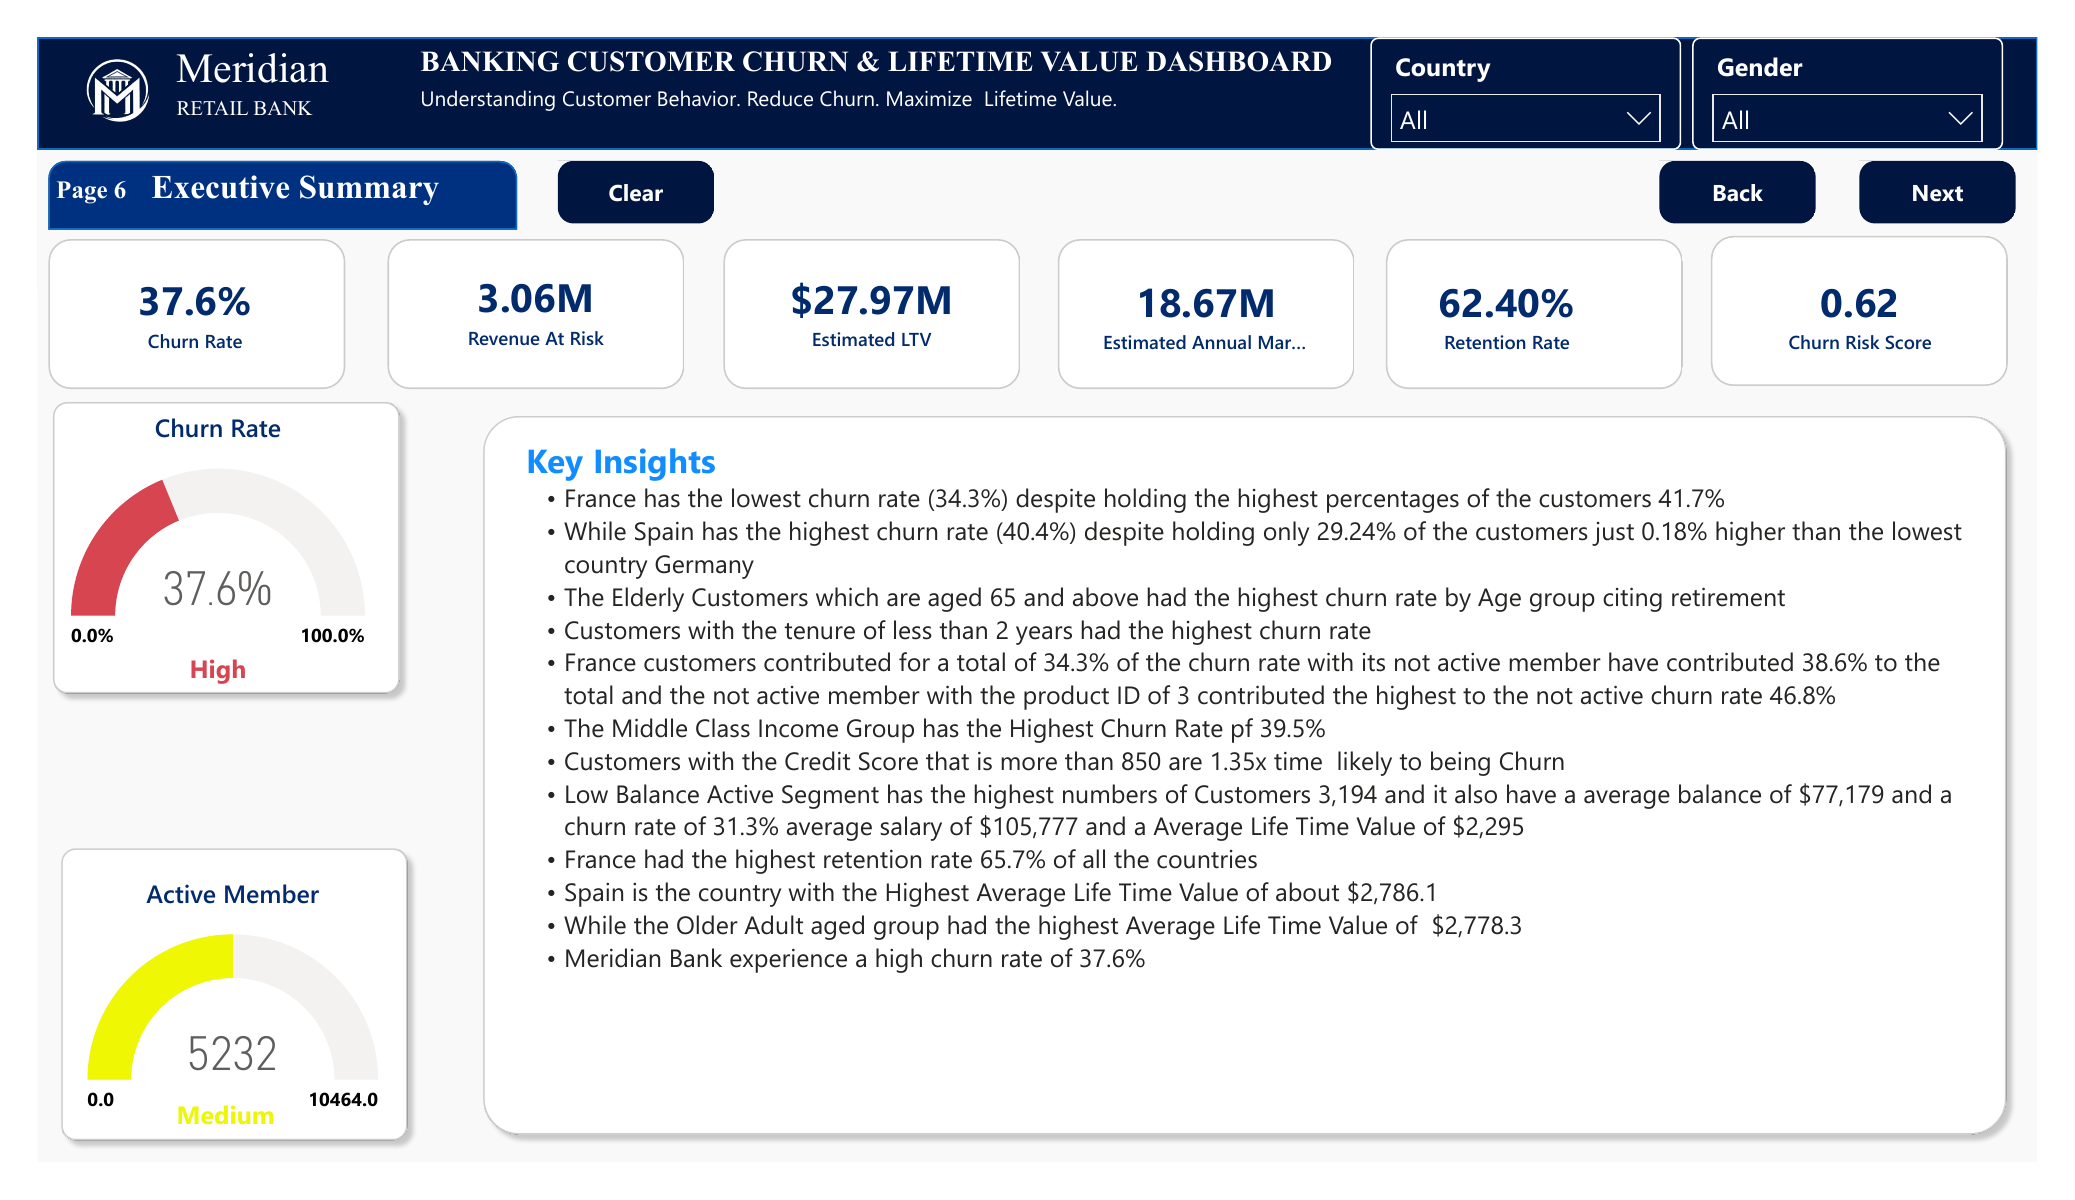

Layout of this report page (visuals, bound fields, positions):
{"tool":"powerbi","page":{"name":"Executive Summary","canvas":[1280,720],"ordinal":5},"visuals":[{"type":"shape","box":[0,0,1279.7,720],"z":0},{"type":"shape","box":[1.8,225.2,238.1,203.3],"z":0,"group":"g1"},{"type":"group","id":"g1","title":"Group 2","box":[1.8,225.2,238.1,203.3],"z":0,"group":"g5"},{"type":"shape","box":[276.5,234.4,990.7,476.1],"z":0,"group":"g7"},{"type":"group","id":"g2","title":"Group 2","box":[7.3,510.8,238.1,203.3],"z":0,"group":"g6"},{"type":"shape","box":[7.3,510.8,238.1,203.3],"z":0,"group":"g2"},{"type":"shape","box":[0,0,1279.7,71.6],"z":1000},{"type":"gauge","fields":{"Y":["All Dax.Churn Rate"]},"box":[7.3,234.4,216.1,166.6],"z":1000,"group":"g5"},{"type":"gauge","fields":{"Y":["All Dax.Active Member"]},"box":[17.7,531.6,216.1,166.6],"z":1000,"group":"g6"},{"type":"shape","box":[7.2,78.8,300,43.9],"z":2000},{"type":"textbox","box":[58.6,388.2,113.5,36.6],"z":2000,"group":"g5"},{"type":"textbox","box":[64.1,673.8,113.5,36.6],"z":2000,"group":"g6"},{"type":"shape","box":[223.9,128.9,189.9,95.8],"z":2001,"group":"g4"},{"type":"shape","box":[7.2,129,189.9,95.8],"z":2001,"group":"g3"},{"type":"cardVisual","fields":{"Data":["All Dax.Churn Rate"]},"box":[7.9,125,186.3,103],"z":2012,"group":"g3"},{"type":"cardVisual","fields":{"Data":["All Dax.Revenue At Risk"]},"box":[226.7,126,184.5,95.8],"z":2012,"group":"g4"},{"type":"cardVisual","fields":{"Data":["All Dax.Churned"]},"box":[482.7,129,170.1,95.8],"z":3000},{"type":"cardVisual","fields":{"Data":["All Dax.Churned"]},"box":[482.7,129,170.1,95.8],"z":4000},{"type":"shape","box":[438.8,129,189.9,95.8],"z":5000},{"type":"shape","box":[652.8,129,189.9,95.8],"z":6000},{"type":"shape","box":[863.3,129,189.9,95.8],"z":7000},{"type":"group","id":"g3","title":"Group 1","box":[7.2,125,189.9,103],"z":8000},{"type":"group","id":"g4","title":"Group 1","box":[223.9,126,189.9,98.8],"z":9000},{"type":"cardVisual","fields":{"Data":["All Dax.Estimated LTV"]},"box":[438.8,127.2,189.9,95.8],"z":10000},{"type":"cardVisual","fields":{"Data":["All Dax.Estimated Annual Margin"]},"box":[652.8,129,189.9,95.8],"z":11000},{"type":"cardVisual","fields":{"Data":["All Dax.Retention Rate"]},"box":[863.3,129,154.3,96.1],"z":12000},{"type":"textbox","box":[7.2,78.8,300,43.9],"z":13000},{"type":"textbox","box":[240,0,613.4,35.8],"z":16000},{"type":"textbox","box":[240,25.1,615.2,35.8],"z":17000},{"type":"image","box":[0,0,102.1,71.6],"z":18000},{"type":"textbox","box":[84.2,0,130.7,71.6],"z":19000},{"type":"actionButton","box":[1166,78.8,100,40],"z":20000},{"type":"actionButton","box":[333.1,78.8,100,40],"z":21000},{"type":"actionButton","box":[1037.9,78.8,100,40],"z":22000},{"type":"group","id":"g5","title":"Group 3","box":[1.8,225.2,238.1,203.3],"z":24000},{"type":"group","id":"g6","title":"Group 3","box":[7.3,510.8,238.1,203.3],"z":25000},{"type":"group","id":"g7","title":"Group 2","box":[276.5,234.4,990.7,476.1],"z":26000},{"type":"textbox","box":[307.6,250.9,941.2,441.3],"z":27000},{"type":"shape","box":[1070.7,127.3,189.9,95.8],"z":28001},{"type":"cardVisual","fields":{"Data":["All Dax.Churn Risk Score"]},"box":[1071.6,129,189,95.8],"z":28501},{"type":"slicer","fields":{"Values":["DimGender.Gender"]},"box":[1058.9,0,199,71.7],"z":28502},{"type":"slicer","fields":{"Values":["DimGeography.Country"]},"box":[853.4,0,198.8,71.6],"z":28503}]}

Visuals, with their boxes on the page's 1280x720 design canvas (x1, y1, x2, y2). These are canvas units, not pixel positions in the 2075x1200 screenshot, which may show the page scaled, cropped or inside an application window:
shape: 0/0/1280/720
shape: 2/225/240/428
"Group 2" group: 2/225/240/428
shape: 276/234/1267/710
"Group 2" group: 7/511/245/714
shape: 7/511/245/714
shape: 0/0/1280/72
gauge - All Dax.Churn Rate: 7/234/223/401
gauge - All Dax.Active Member: 18/532/234/698
shape: 7/79/307/123
textbox: 59/388/172/425
textbox: 64/674/178/710
shape: 224/129/414/225
shape: 7/129/197/225
cardVisual - All Dax.Churn Rate: 8/125/194/228
cardVisual - All Dax.Revenue At Risk: 227/126/411/222
cardVisual - All Dax.Churned: 483/129/653/225
cardVisual - All Dax.Churned: 483/129/653/225
shape: 439/129/629/225
shape: 653/129/843/225
shape: 863/129/1053/225
"Group 1" group: 7/125/197/228
"Group 1" group: 224/126/414/225
cardVisual - All Dax.Estimated LTV: 439/127/629/223
cardVisual - All Dax.Estimated Annual Margin: 653/129/843/225
cardVisual - All Dax.Retention Rate: 863/129/1018/225
textbox: 7/79/307/123
textbox: 240/0/853/36
textbox: 240/25/855/61
image: 0/0/102/72
textbox: 84/0/215/72
actionButton: 1166/79/1266/119
actionButton: 333/79/433/119
actionButton: 1038/79/1138/119
"Group 3" group: 2/225/240/428
"Group 3" group: 7/511/245/714
"Group 2" group: 276/234/1267/710
textbox: 308/251/1249/692
shape: 1071/127/1261/223
cardVisual - All Dax.Churn Risk Score: 1072/129/1261/225
slicer - DimGender.Gender: 1059/0/1258/72
slicer - DimGeography.Country: 853/0/1052/72
